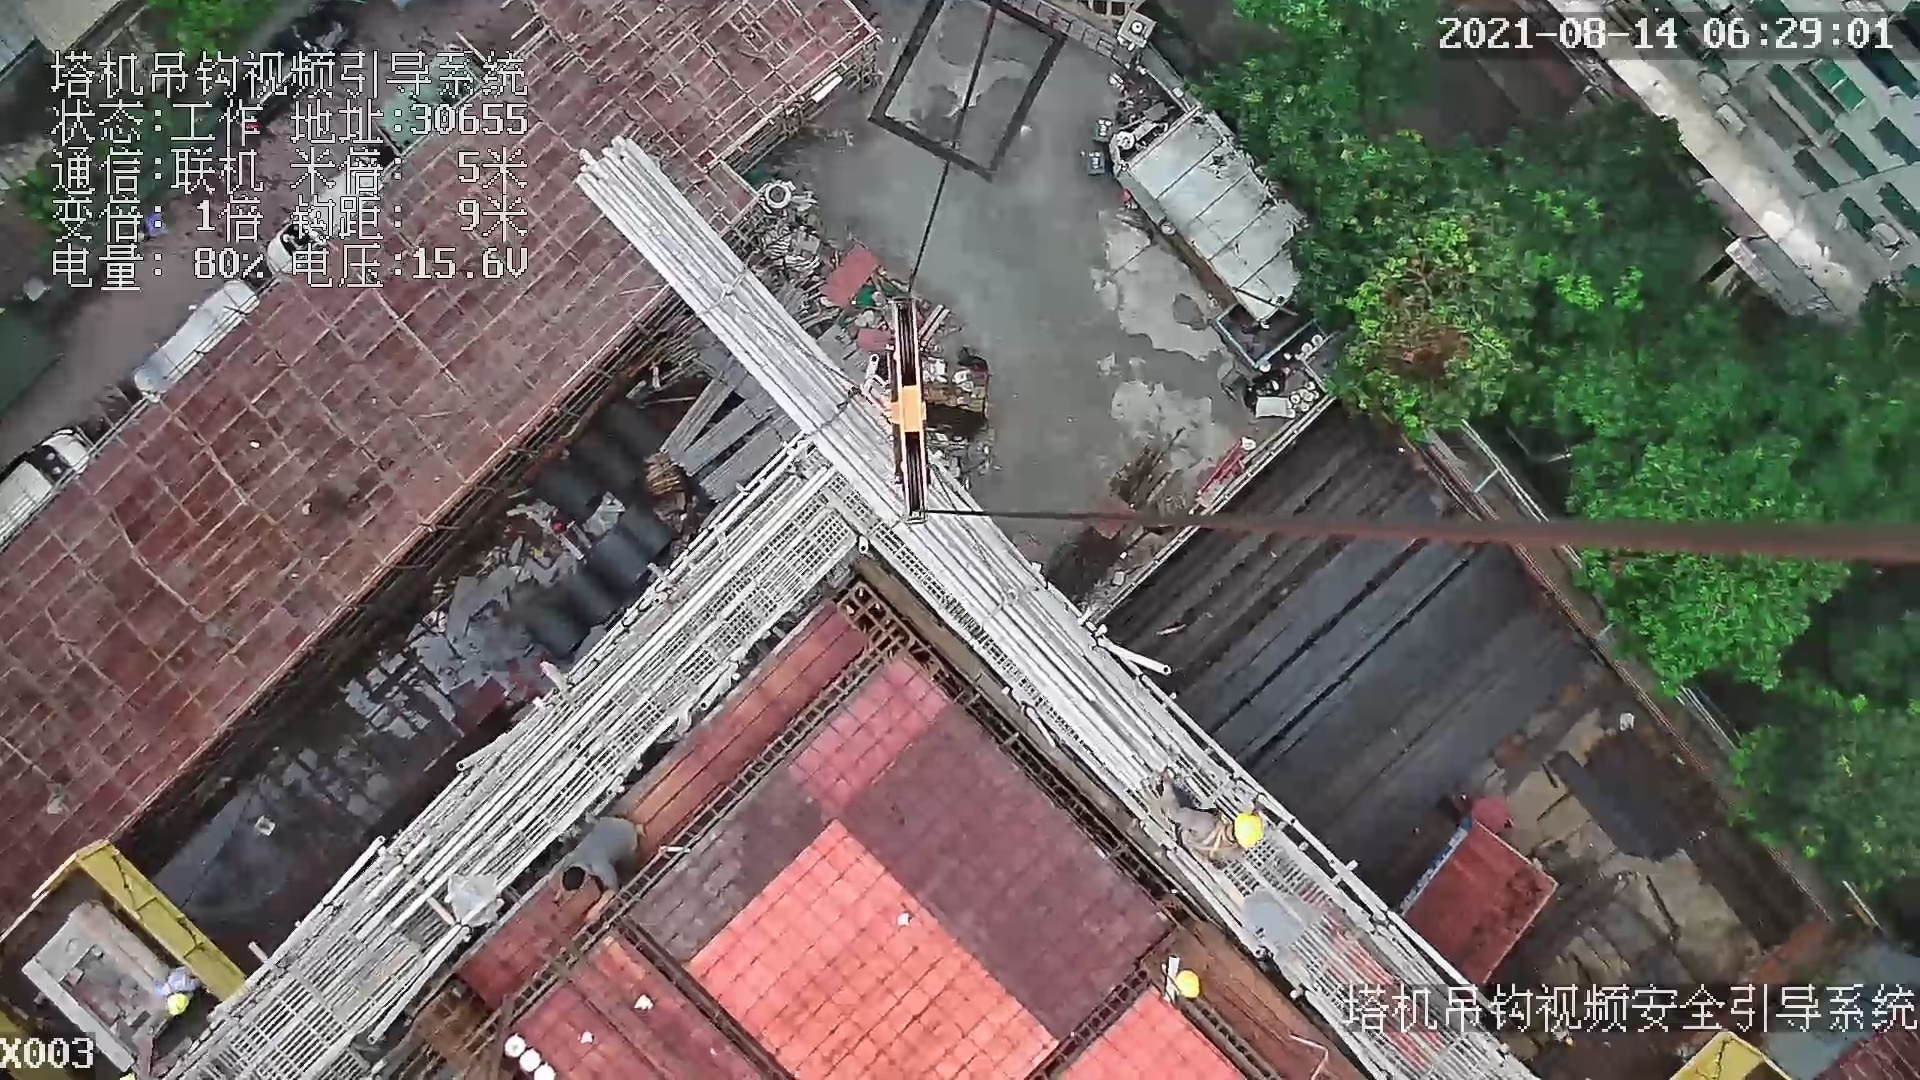helmet: (1231, 810, 1269, 854), (1174, 974, 1203, 1006)
hook: (885, 300, 938, 526)
person: (1156, 768, 1273, 867)
rebar: (1129, 446, 1562, 828)
